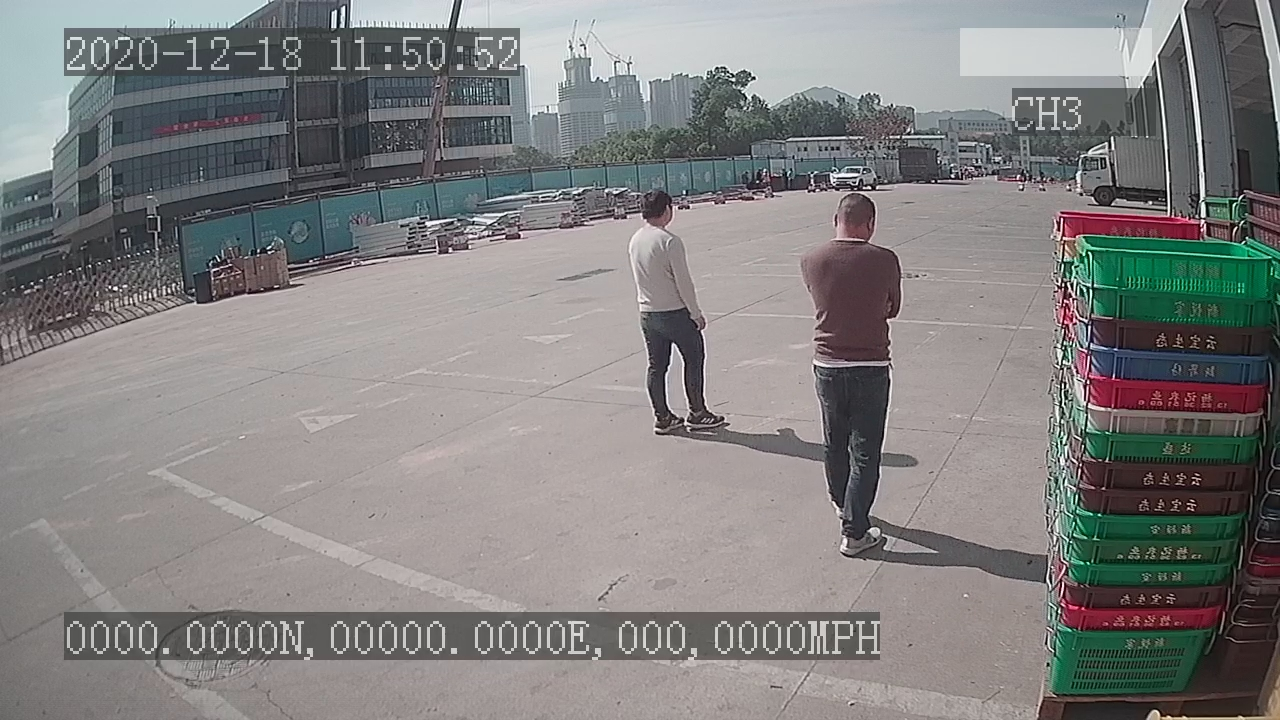person: (793, 188, 913, 565), (624, 185, 733, 436)
